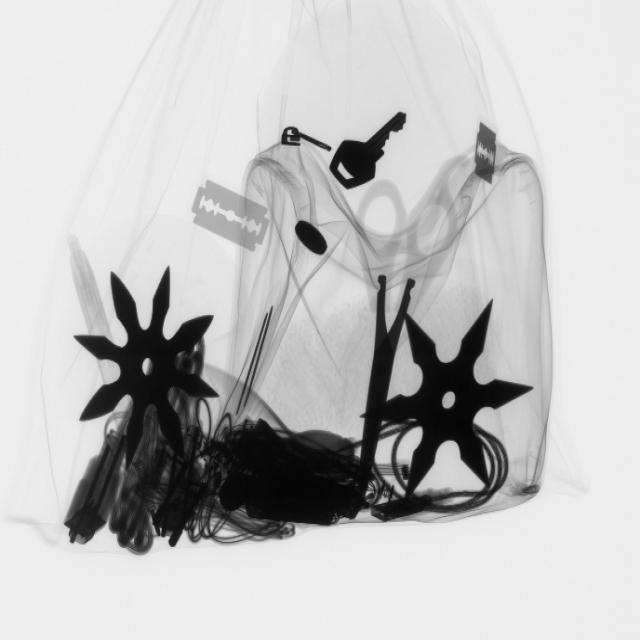BLADE: (189, 176, 276, 259), (468, 117, 505, 190)
SHURIKEN: (376, 291, 530, 501), (76, 261, 221, 467)
